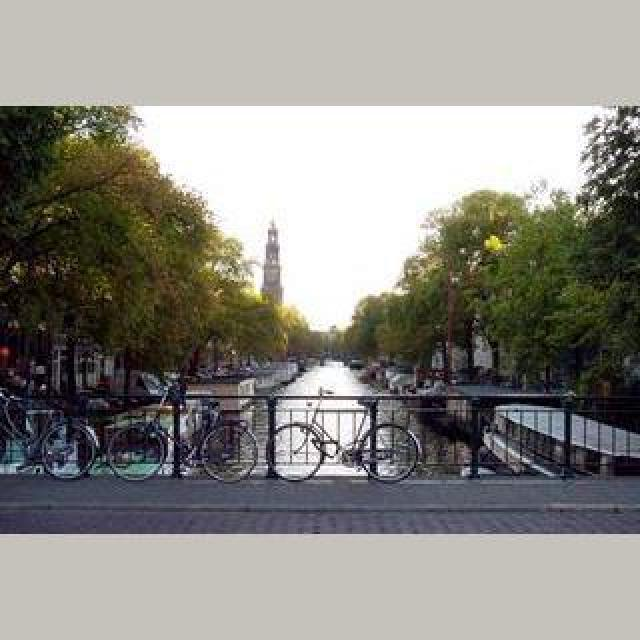Person: (106, 383, 258, 485), (267, 391, 421, 483), (0, 388, 98, 480)
